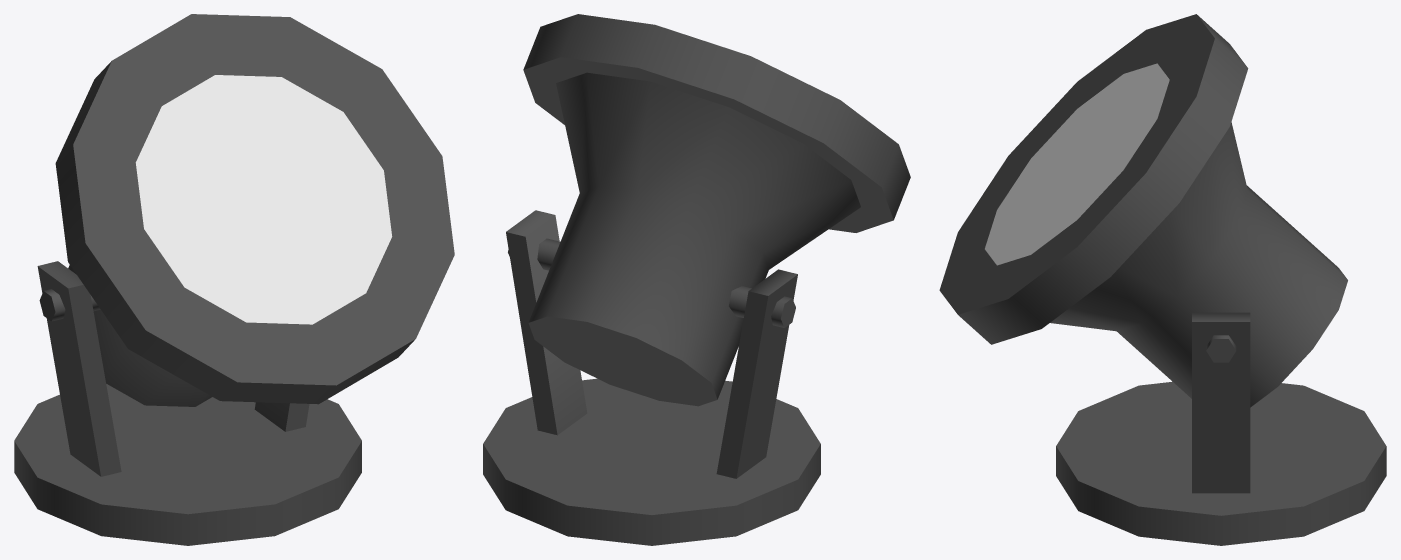
The model's file is FountainLight.fbx.
3 views of the same model, side by side, from view 1: azimuth 30°, elevation 25°; view 2: azimuth 150°, elevation 25°; view 3: azimuth 270°, elevation 25° (orthographic). The views are drawn at different scales.
Visible parts, largest first — view 1: Light, LightBase; view 2: Light, LightBase; view 3: Light, LightBase.
Part boxes in pixels (box(x1,y1,x2,y2)): Light: box(55, 14, 454, 406); LightBase: box(14, 261, 361, 545); Light: box(523, 14, 910, 406); LightBase: box(483, 210, 820, 545); Light: box(939, 14, 1347, 407); LightBase: box(1056, 312, 1386, 545).
Bounding box in the file's own units: 24.54 × 30.28 × 28.03.
